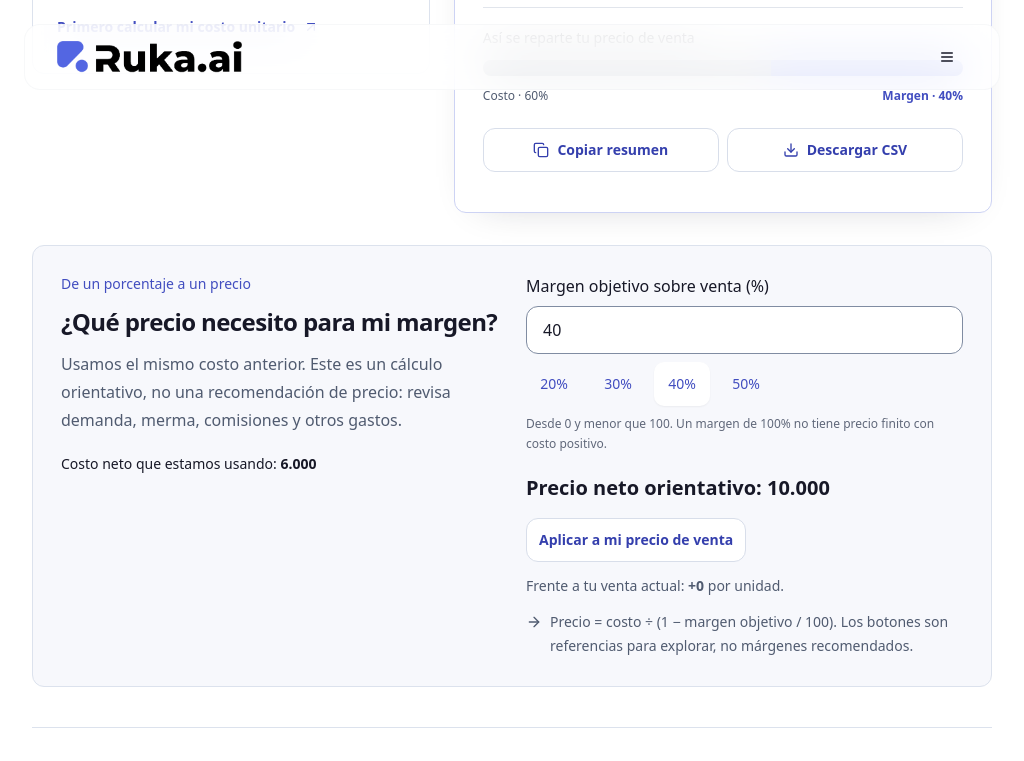
Scenario: final tool workspace › applies and undoes a target price without changing cost
(page scrolled)
Click the button "50%" at (746, 384), box [718, 362, 774, 406]
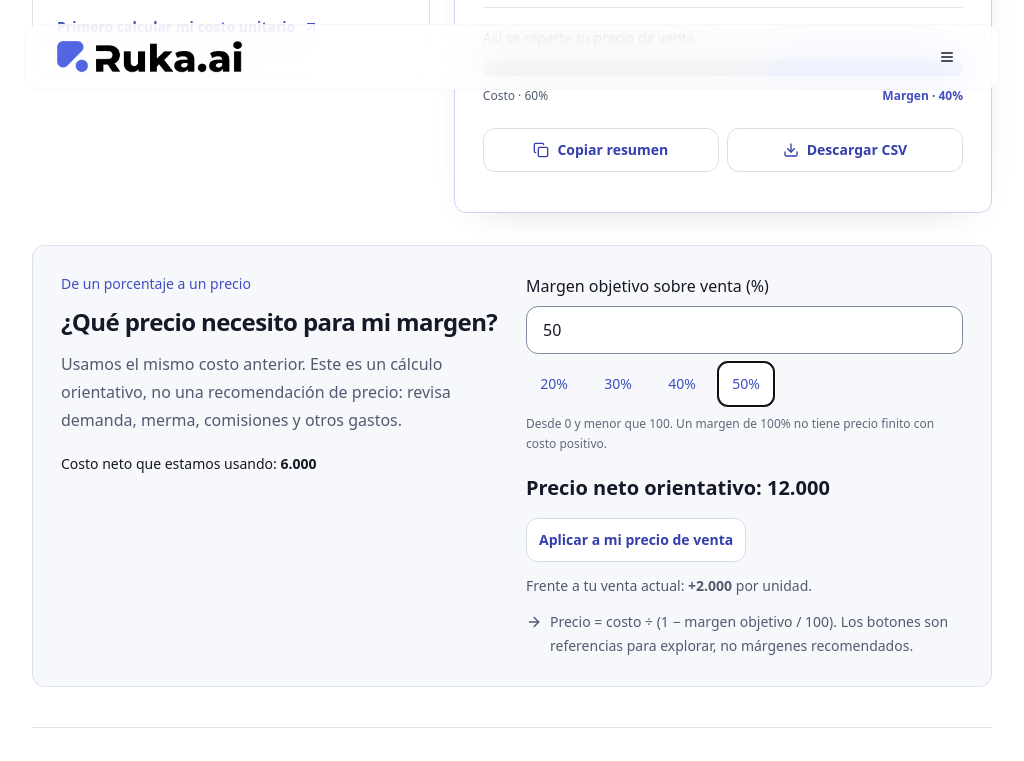
Click the button "Aplicar a mi precio de venta" at (636, 540), box [526, 518, 746, 562]
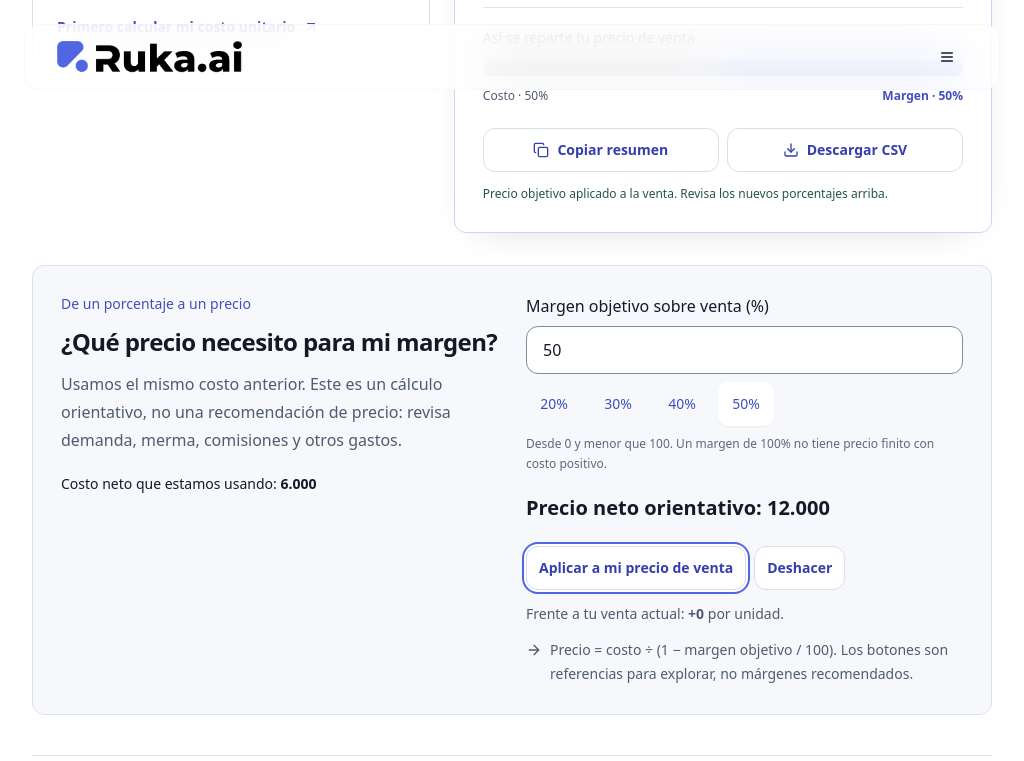
Click the button "Deshacer" at (800, 568), box [754, 546, 845, 590]
(page scrolled)
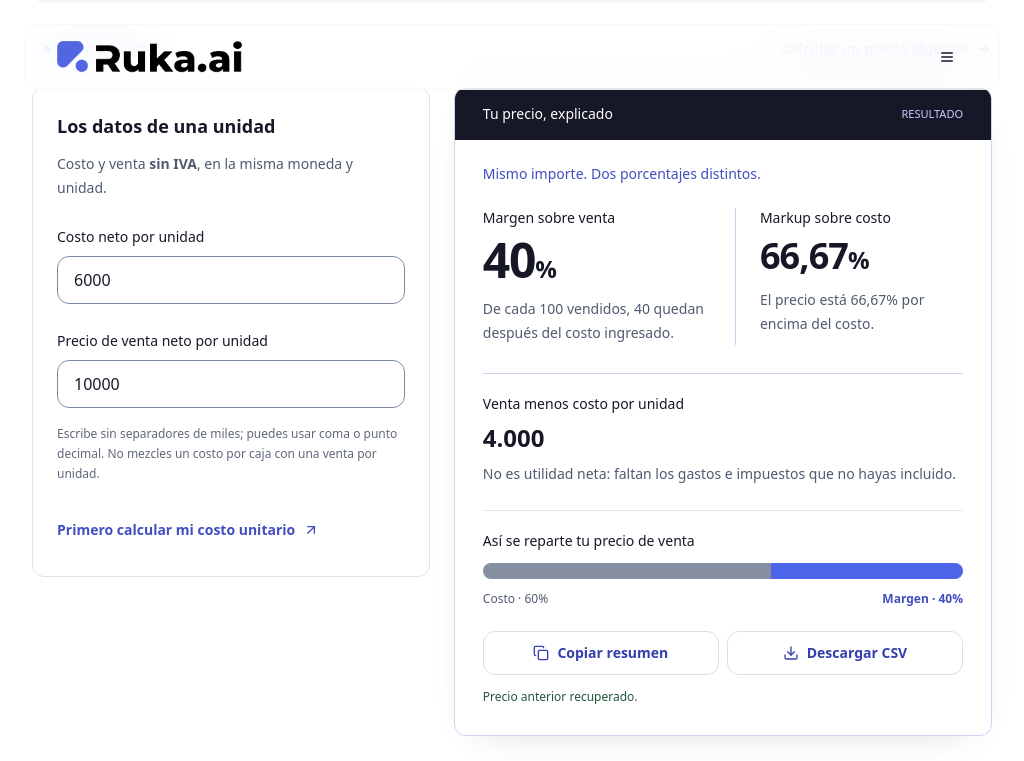
expect the field labelled "Precio de venta neto por unidad" holds "10000": met, box [57, 360, 405, 408]
